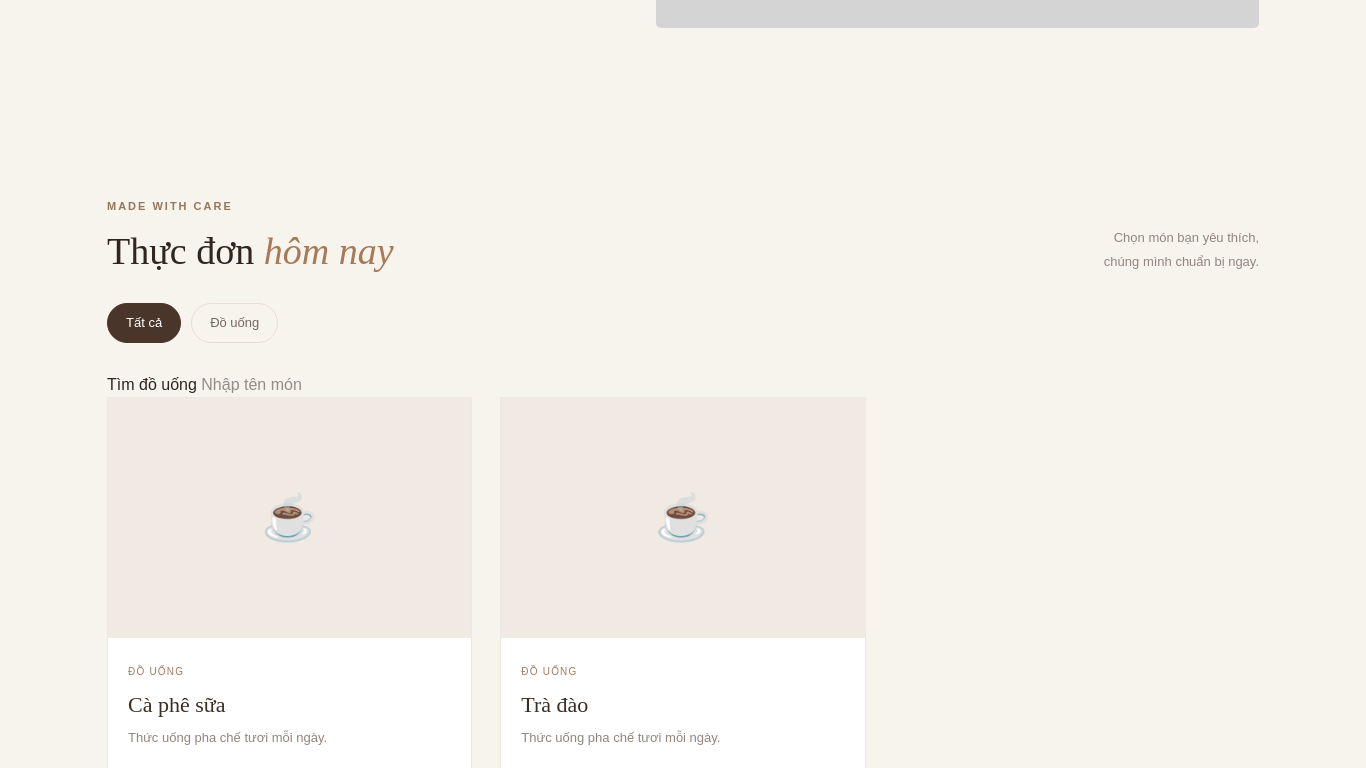
Scenario: FR-01 menu states › searches the real catalog by name
(page scrolled)
Check: the heading "Cà phê sữa" is shown, box x1=128 y1=692 x2=226 y2=716
In the search field labelled "Tìm đồ uống": (305, 384) x1=201 y1=372 x2=408 y2=396, type "trà"
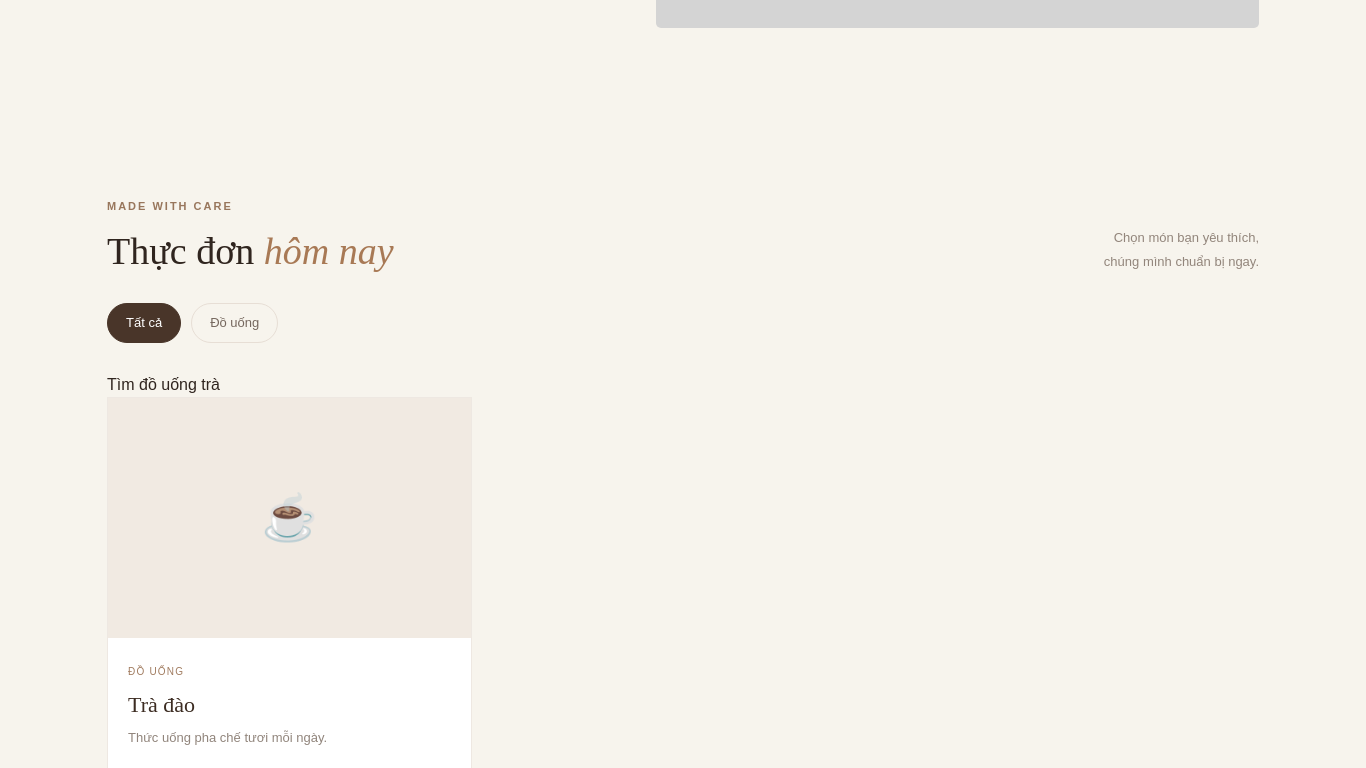
Check: the heading "Trà đào" is shown, box x1=128 y1=692 x2=195 y2=716
Check: the heading "Cà phê sữa" is gone
